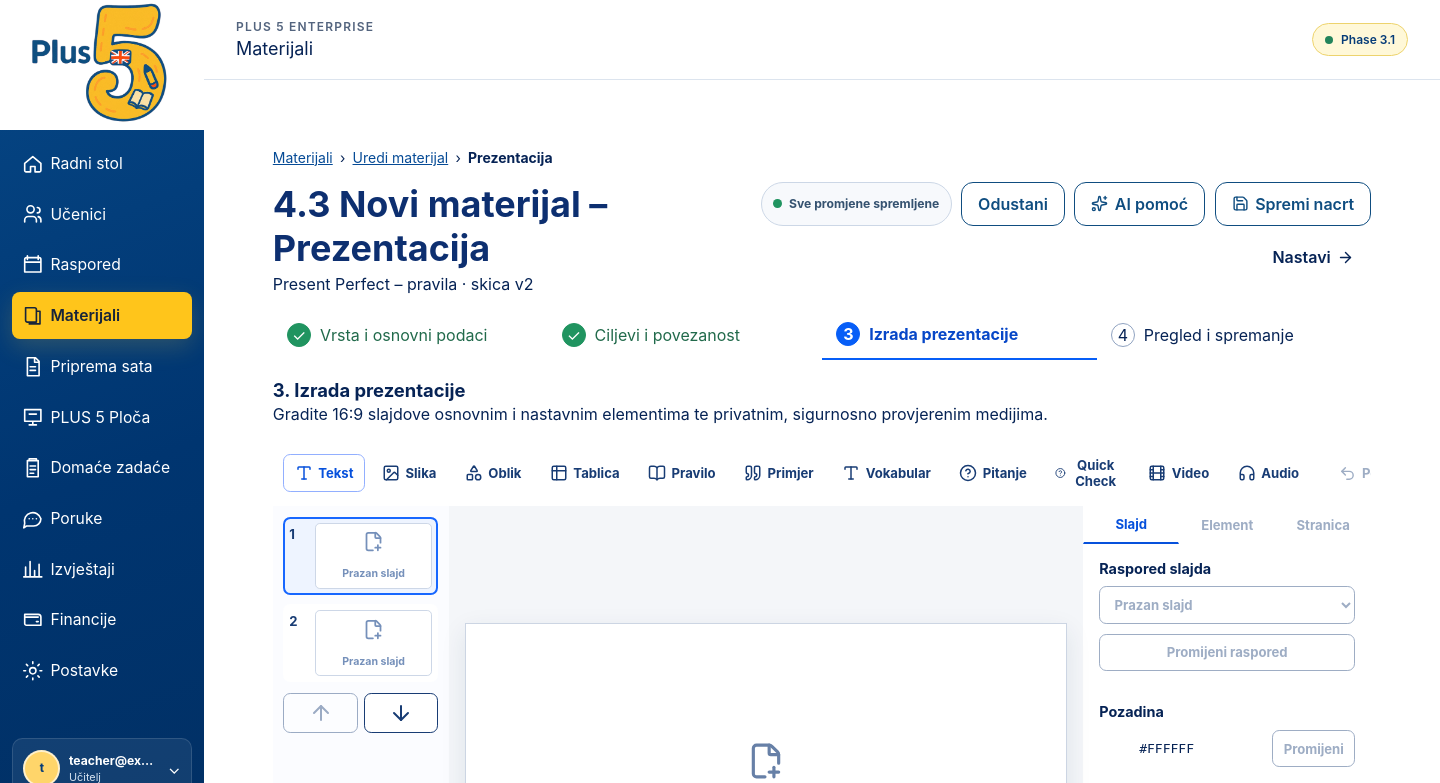
Test case: presentation slide editor › creates a structured text element with the current document revision
The image size is (1440, 783).
What coordinates should you click on to do the following:
click the button "Tekst"
I would click on:
 (324, 473)
Its box is x1=283 y1=454 x2=365 y2=492.
(page scrolled)
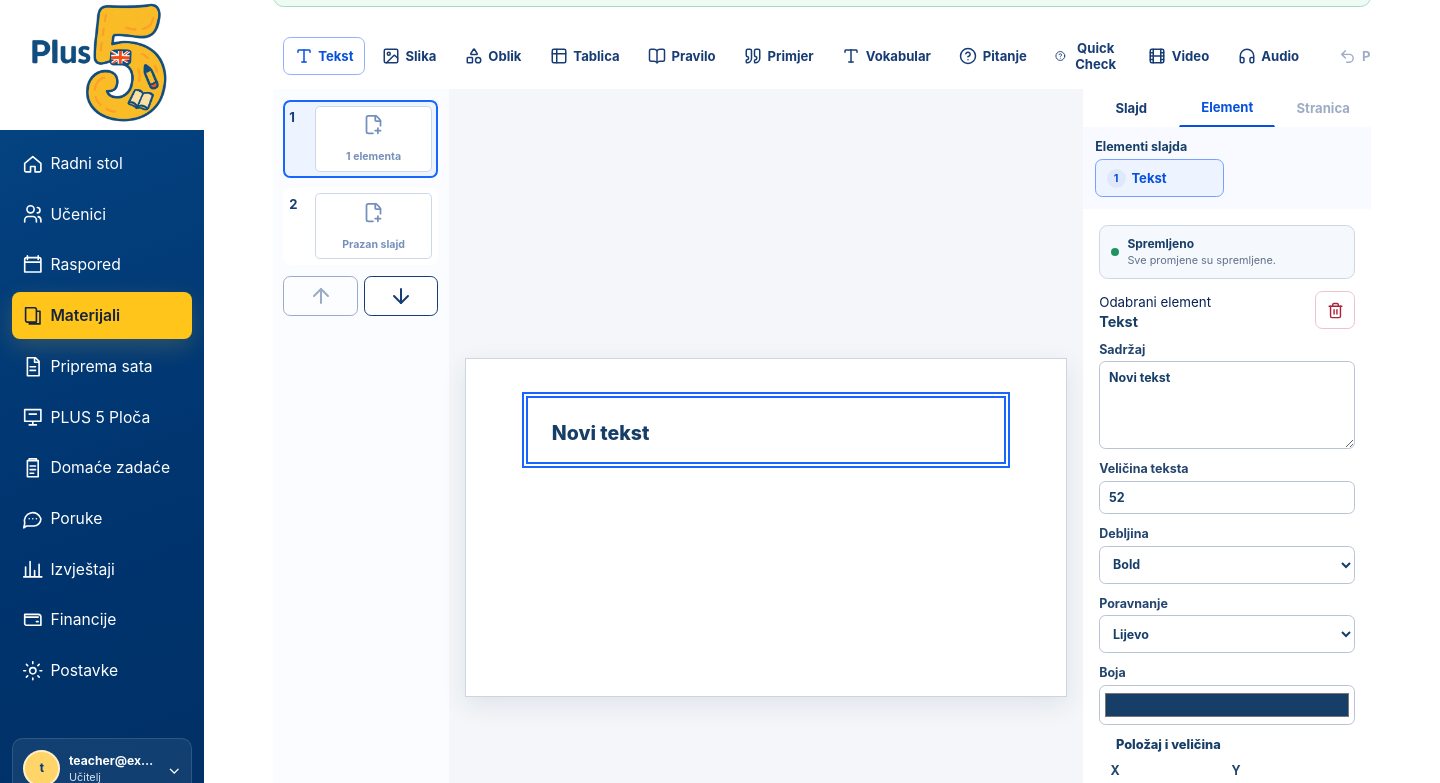
Now the text box showing "Novi tekst" is shown, box x1=1099 y1=361 x2=1355 y2=449
